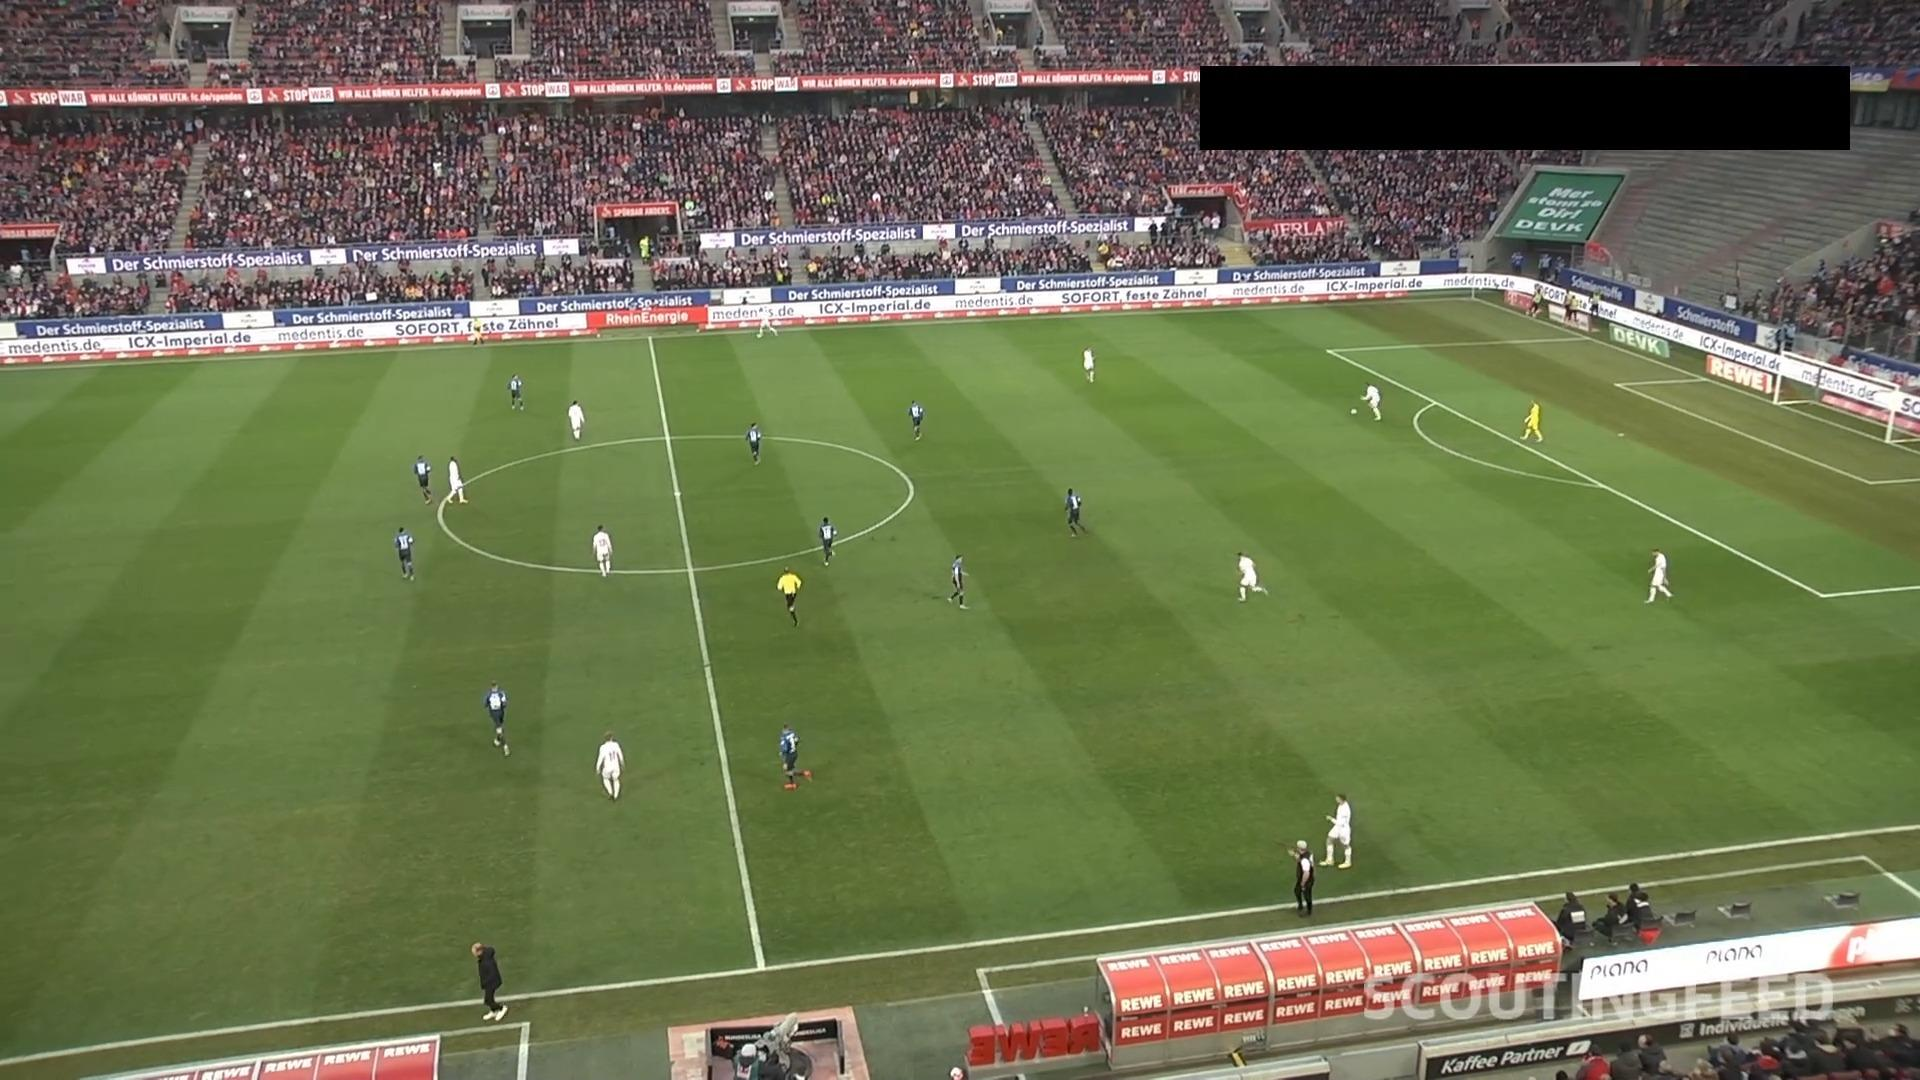ball: (1349, 406, 1358, 415)
